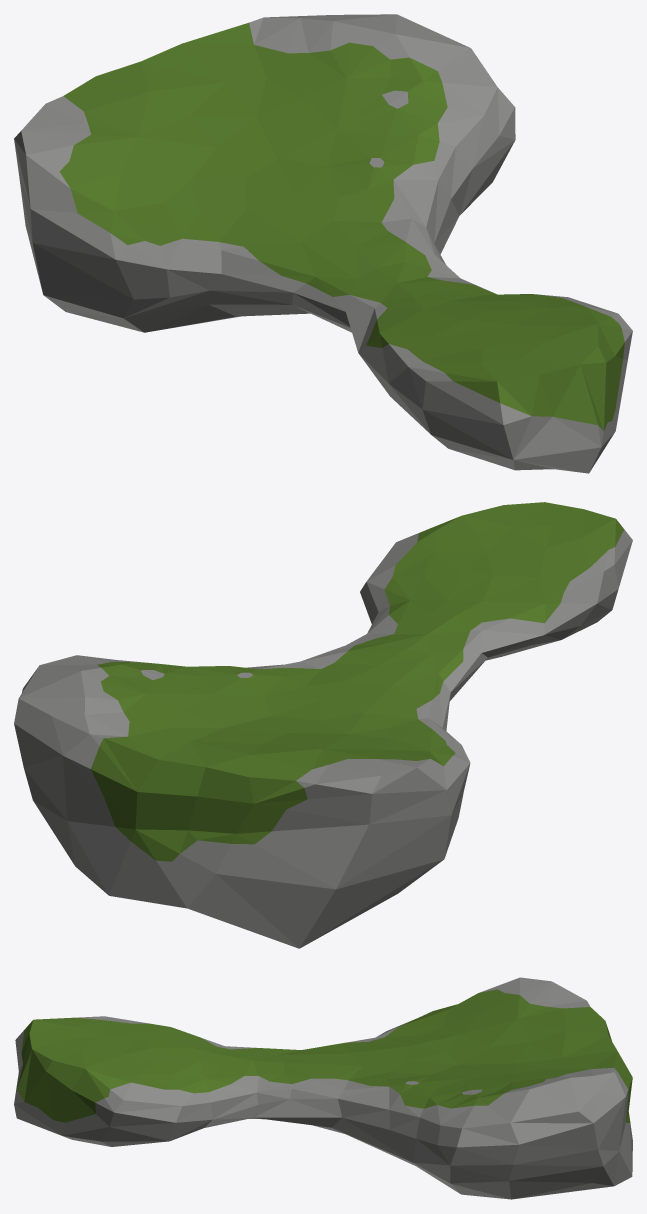
The model's file is Cavern_FloorGrass_Narrow_Bridge_Sml-02.fbx.
The picture shows the model from 3 angles, top to bottom: view 1: azimuth 30°, elevation 25°; view 2: azimuth 150°, elevation 25°; view 3: azimuth 270°, elevation 25°; orthographic projection. The views are drawn at different scales.
Parts seen in each view (by area): view 1: Cavern_FloorGrass_Narrow_Bridge_Sml-02; view 2: Cavern_FloorGrass_Narrow_Bridge_Sml-02; view 3: Cavern_FloorGrass_Narrow_Bridge_Sml-02.
Boxes of the visible parts, box(x1,y1,x2,y2) form: Cavern_FloorGrass_Narrow_Bridge_Sml-02: box(14, 14, 632, 473); Cavern_FloorGrass_Narrow_Bridge_Sml-02: box(14, 502, 632, 948); Cavern_FloorGrass_Narrow_Bridge_Sml-02: box(14, 977, 632, 1199).
Size of the model in its own units: 852 by 371 by 1402.
1 material, 1 textured.
